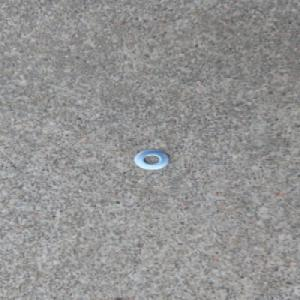Washer: (133, 149, 170, 170)
